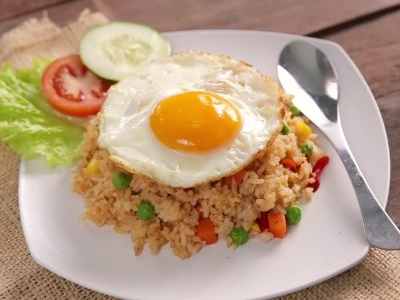nasigoreng: (69, 49, 331, 255)
